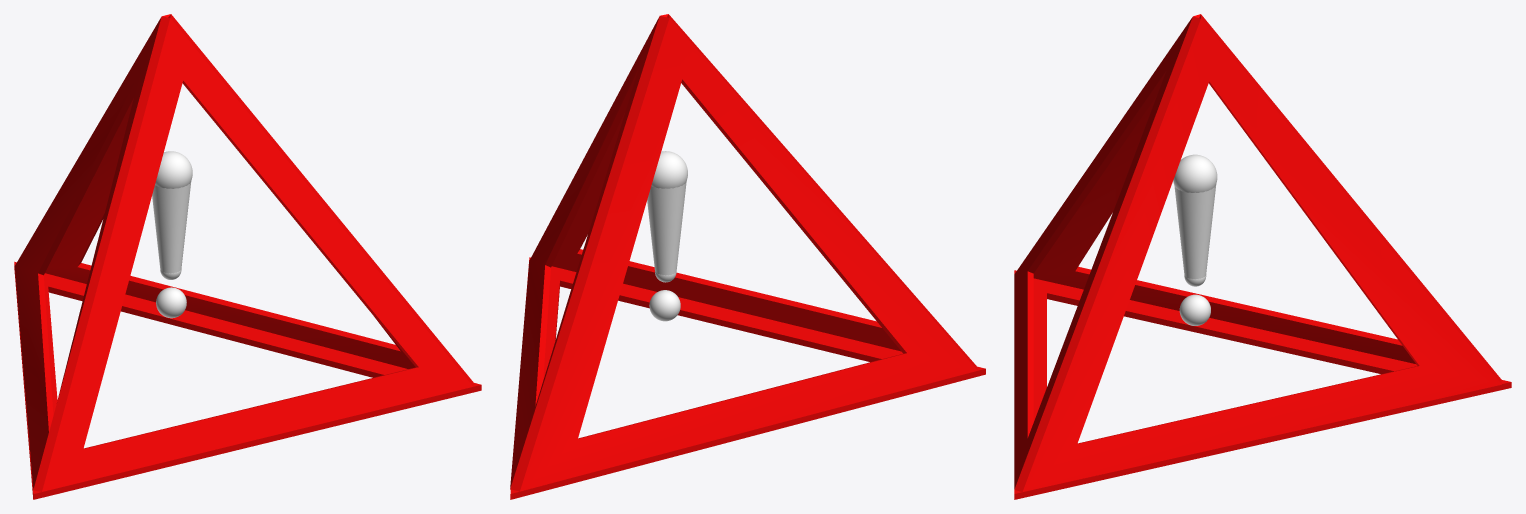
Rendered from alarm.FBX.
The picture shows the model from 3 angles, left to right: view 1: azimuth 30°, elevation 25°; view 2: azimuth 150°, elevation 25°; view 3: azimuth 270°, elevation 25°; orthographic projection. The views are drawn at different scales.
Parts seen in each view (by area): view 1: NGon004, NGon005, Sphere001; view 2: NGon004, NGon005, Sphere001; view 3: NGon004, NGon005, Sphere001.
Part boxes in pixels (x1,y1,x2,y2): NGon004: [14, 14, 473, 491]; NGon005: [14, 261, 481, 499]; Sphere001: [152, 151, 192, 318]; NGon004: [510, 14, 977, 491]; NGon005: [510, 257, 985, 499]; Sphere001: [647, 151, 687, 321]; NGon004: [1014, 14, 1501, 491]; NGon005: [1014, 270, 1511, 499]; Sphere001: [1173, 154, 1217, 325].
Bounding box in the file's own units: 8105 × 6275 × 7606.
